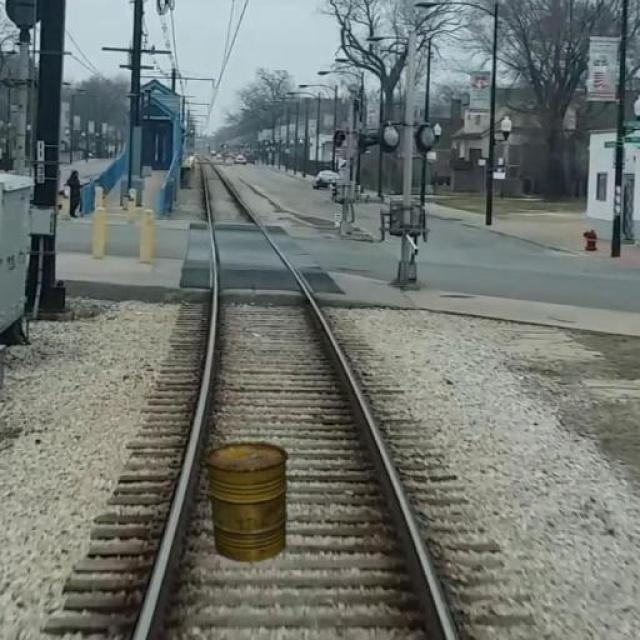Other_objects: (201, 435, 304, 572)
